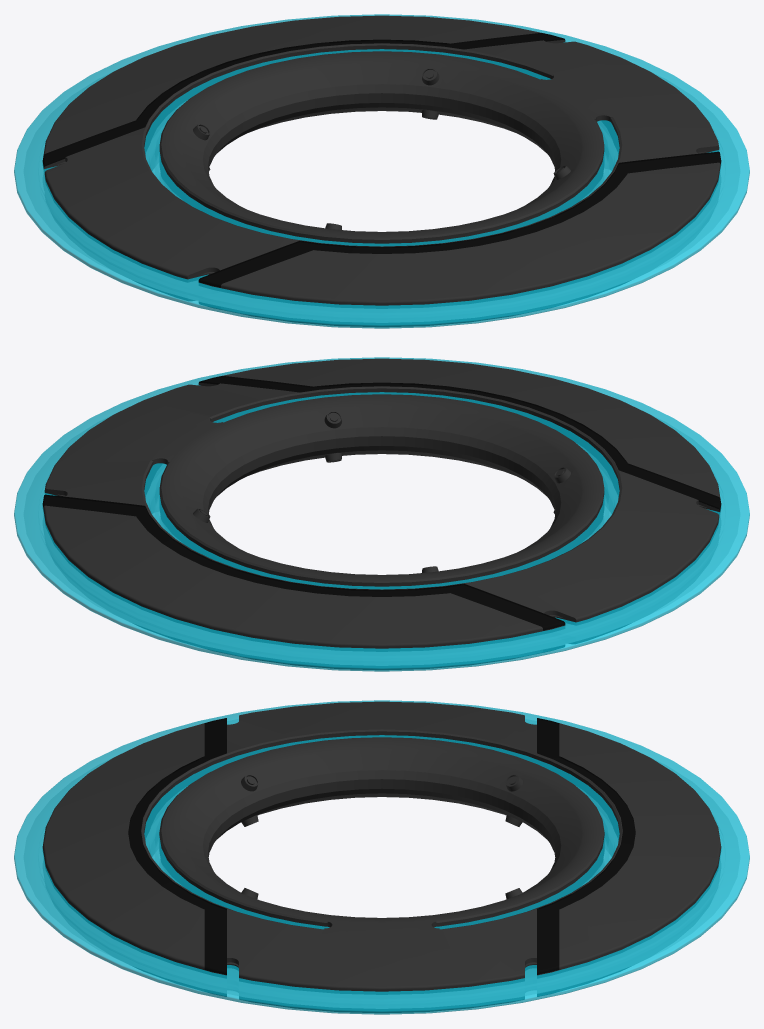
File: tron_disk.glb
3 renders of one model, top to bottom at view 1: azimuth 30°, elevation 25°; view 2: azimuth 150°, elevation 25°; view 3: azimuth 270°, elevation 25°, orthographic.
Visible parts, largest first — view 1: Object_4, Object_2, Object_3, Object_7; view 2: Object_4, Object_2, Object_3, Object_7; view 3: Object_4, Object_2, Object_3, Object_7.
Part boxes in pixels (x1,y1,x2,y2): Object_4: [42, 15, 721, 326]; Object_2: [14, 14, 749, 328]; Object_3: [24, 74, 739, 322]; Object_7: [42, 32, 721, 309]; Object_4: [42, 358, 721, 669]; Object_2: [14, 357, 749, 671]; Object_3: [24, 417, 739, 665]; Object_7: [42, 375, 721, 652]; Object_4: [42, 701, 721, 1012]; Object_2: [14, 700, 749, 1014]; Object_3: [24, 719, 739, 1008]; Object_7: [128, 718, 635, 996].
Size of the model in its own units: 228 by 18.56 by 228.
